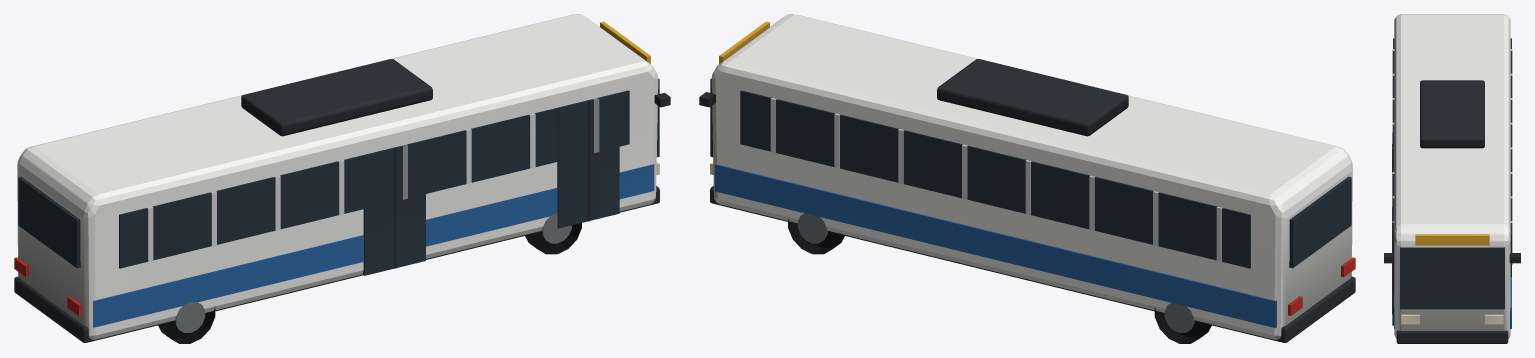
File: colectivo-azul-CDea07Sr.glb
3 renders of one model, left to right at view 1: azimuth 30°, elevation 25°; view 2: azimuth 150°, elevation 25°; view 3: azimuth 270°, elevation 25°, orthographic. The views are drawn at different scales.
Visible parts, largest first — view 1: carroceria, pieza.003, pieza, pieza.028, pieza.025, pieza.023, pieza.022, pieza.002, rueda, rueda.004, rueda.001, rueda.005; view 2: carroceria, pieza.012, pieza.001, pieza.028, pieza.022, pieza.002, rueda.002, rueda.006, rueda.003, rueda.007; view 3: carroceria, pieza.021, pieza.028, pieza.002, pieza.027, pieza.012, pieza.003, pieza.023, pieza.031, pieza.033, pieza.030.
Boxes of the visible parts, x1,y1,x2,y2 form: carroceria: (17,14,658,339); pieza.003: (119,90,629,268); pieza: (93,164,654,327); pieza.028: (241,59,432,136); pieza.025: (363,140,425,275); pieza.023: (557,93,619,228); pieza.022: (18,176,80,268); pieza.002: (14,186,659,342); rueda: (158,307,215,343); rueda.004: (525,223,581,254); rueda.001: (175,302,205,332); rueda.005: (542,212,571,243); carroceria: (711,14,1352,339); pieza.012: (740,90,1250,268); pieza.001: (715,164,1276,327); pieza.028: (937,59,1128,136); pieza.022: (1289,176,1351,268); pieza.002: (710,186,1355,342); rueda.002: (1154,307,1211,343); rueda.006: (788,218,844,254); rueda.003: (1164,303,1194,332); rueda.007: (798,213,827,243); carroceria: (1394,14,1510,338); pieza.021: (1400,247,1504,309); pieza.028: (1420,80,1484,148); pieza.002: (1396,330,1508,343); pieza.027: (1415,234,1489,245); pieza.012: (1510,38,1511,276); pieza.003: (1393,38,1394,276); pieza.023: (1392,207,1394,325); pieza.031: (1401,314,1419,324); pieza.033: (1485,314,1503,324); pieza.030: (1509,253,1520,263).
Bounding box in the file's own units: 11.4 × 3.4 × 2.94.
